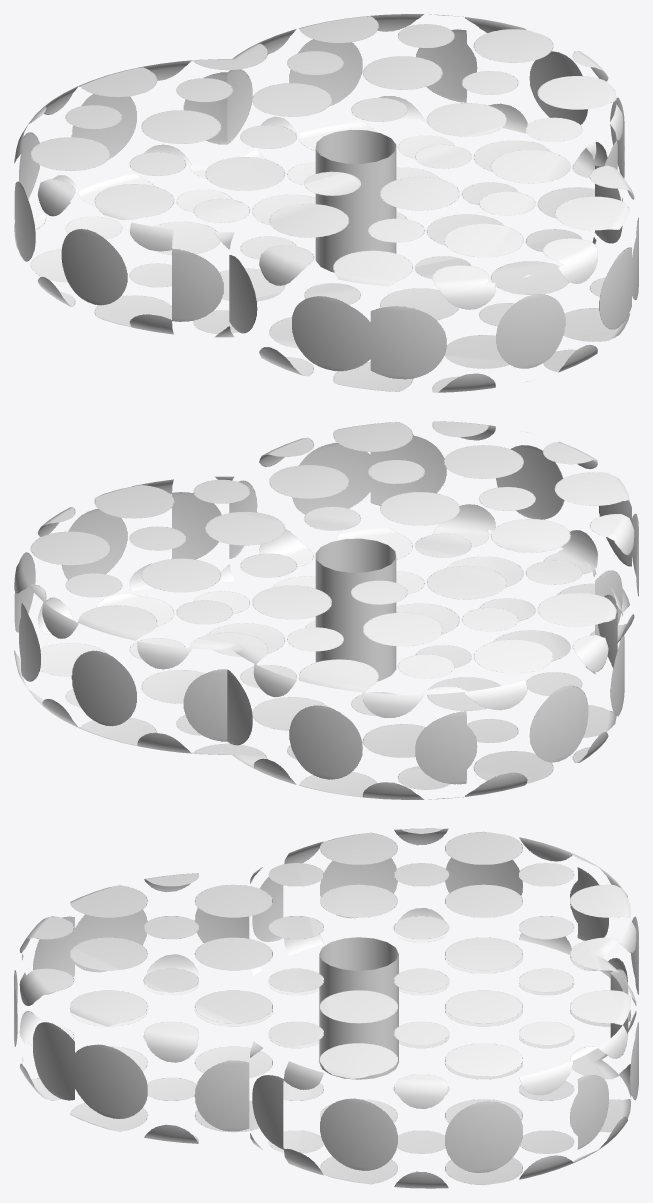
3 renders of one model, top to bottom at view 1: azimuth 30°, elevation 25°; view 2: azimuth 150°, elevation 25°; view 3: azimuth 270°, elevation 25°, orthographic. The views are drawn at different scales.
Visible parts, largest first — view 1: CloverOriginal.012; view 2: CloverOriginal.012; view 3: CloverOriginal.012.
Part boxes in pixels (x1=…): CloverOriginal.012: x1=14, y1=14, x2=638, y2=392; CloverOriginal.012: x1=14, y1=421, x2=638, y2=799; CloverOriginal.012: x1=14, y1=828, x2=638, y2=1188.
Bounding box in the file's own units: 369 × 70.83 × 369.
